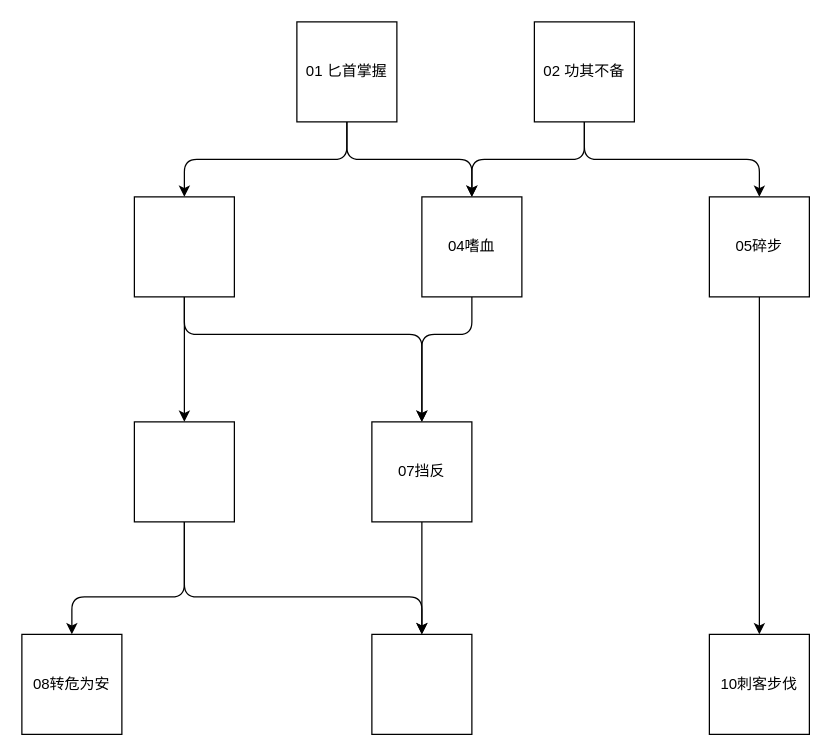
The diagram is 831 pixels wide and 756 high, and some of its shapes have lost their labels. Each missing label, with the centre of its shape:
"03弱点攻击" goes at point 183,246.
"06刺客架势" goes at point 183,471.
"09狩猎" goes at point 421,683.
